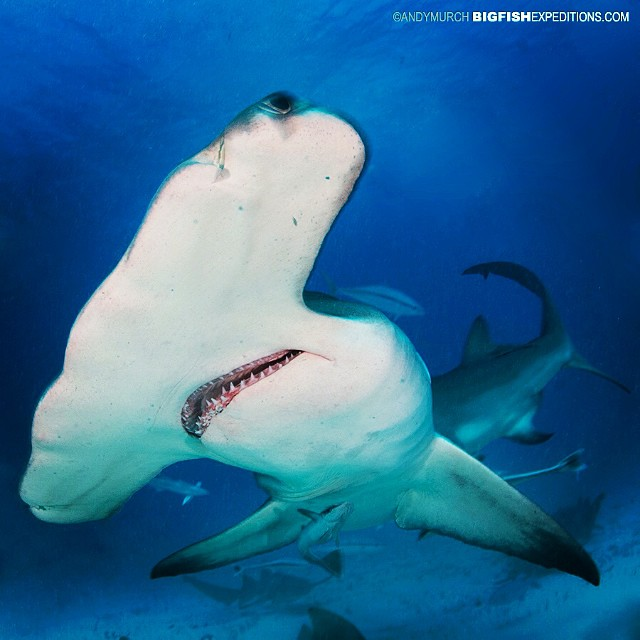shark: (11, 61, 620, 618)
